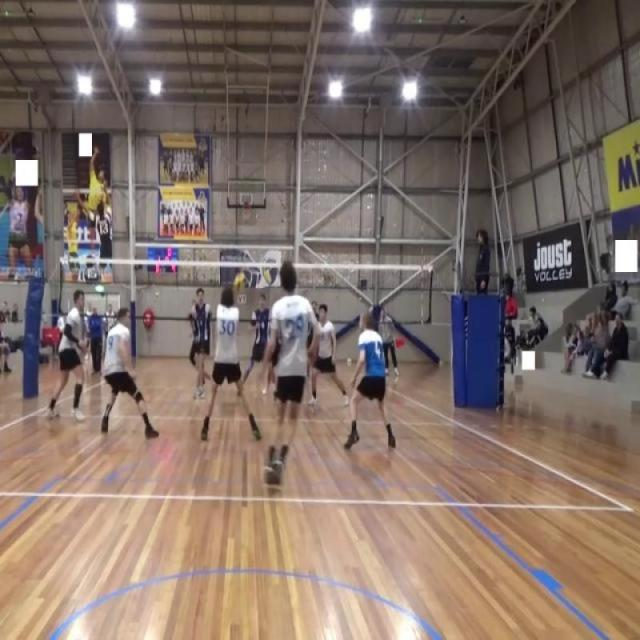volleyball: (233, 270, 248, 292)
